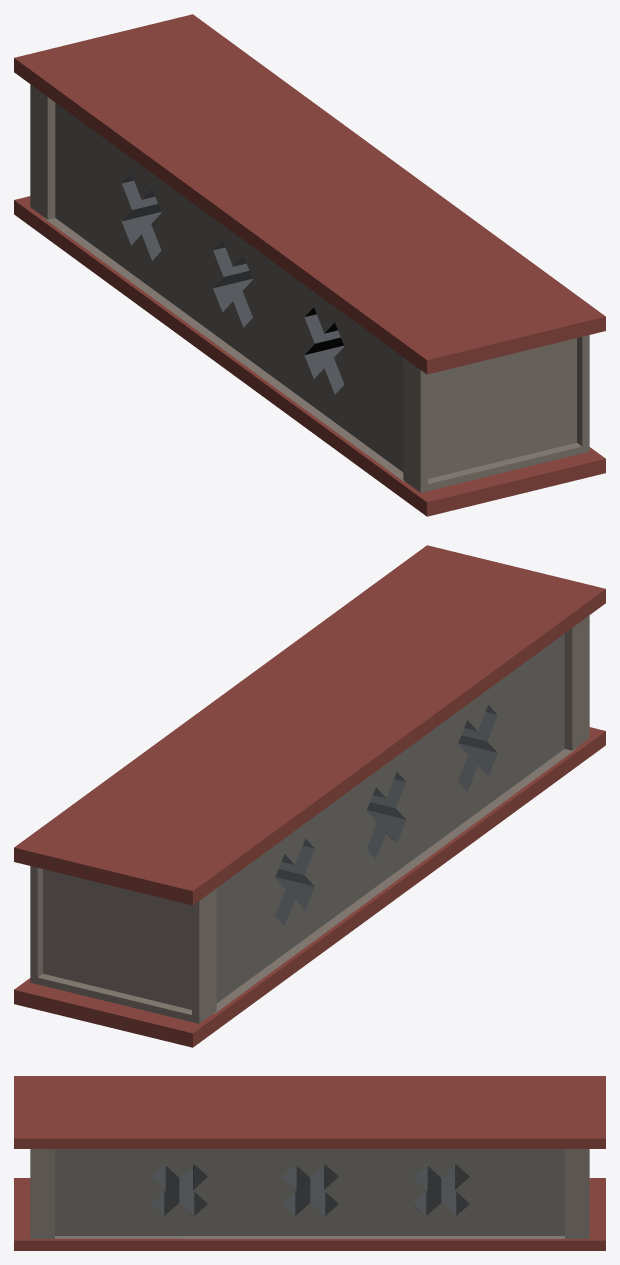
File: girdir 2m #2.fbx
3 renders of one model, top to bottom at view 1: azimuth 30°, elevation 25°; view 2: azimuth 150°, elevation 25°; view 3: azimuth 270°, elevation 25°, orthographic. The views are drawn at different scales.
Parts seen in each view (by area): view 1: 2m platform other; view 2: 2m platform other; view 3: 2m platform other.
Part boxes in pixels (x1,y1,x2,y2): 2m platform other: [14, 14, 605, 516]; 2m platform other: [14, 545, 605, 1047]; 2m platform other: [14, 1076, 605, 1250].
Size of the model in its own units: 0.5 by 0.418 by 2.
Materials: 1 (1 with a texture image).
